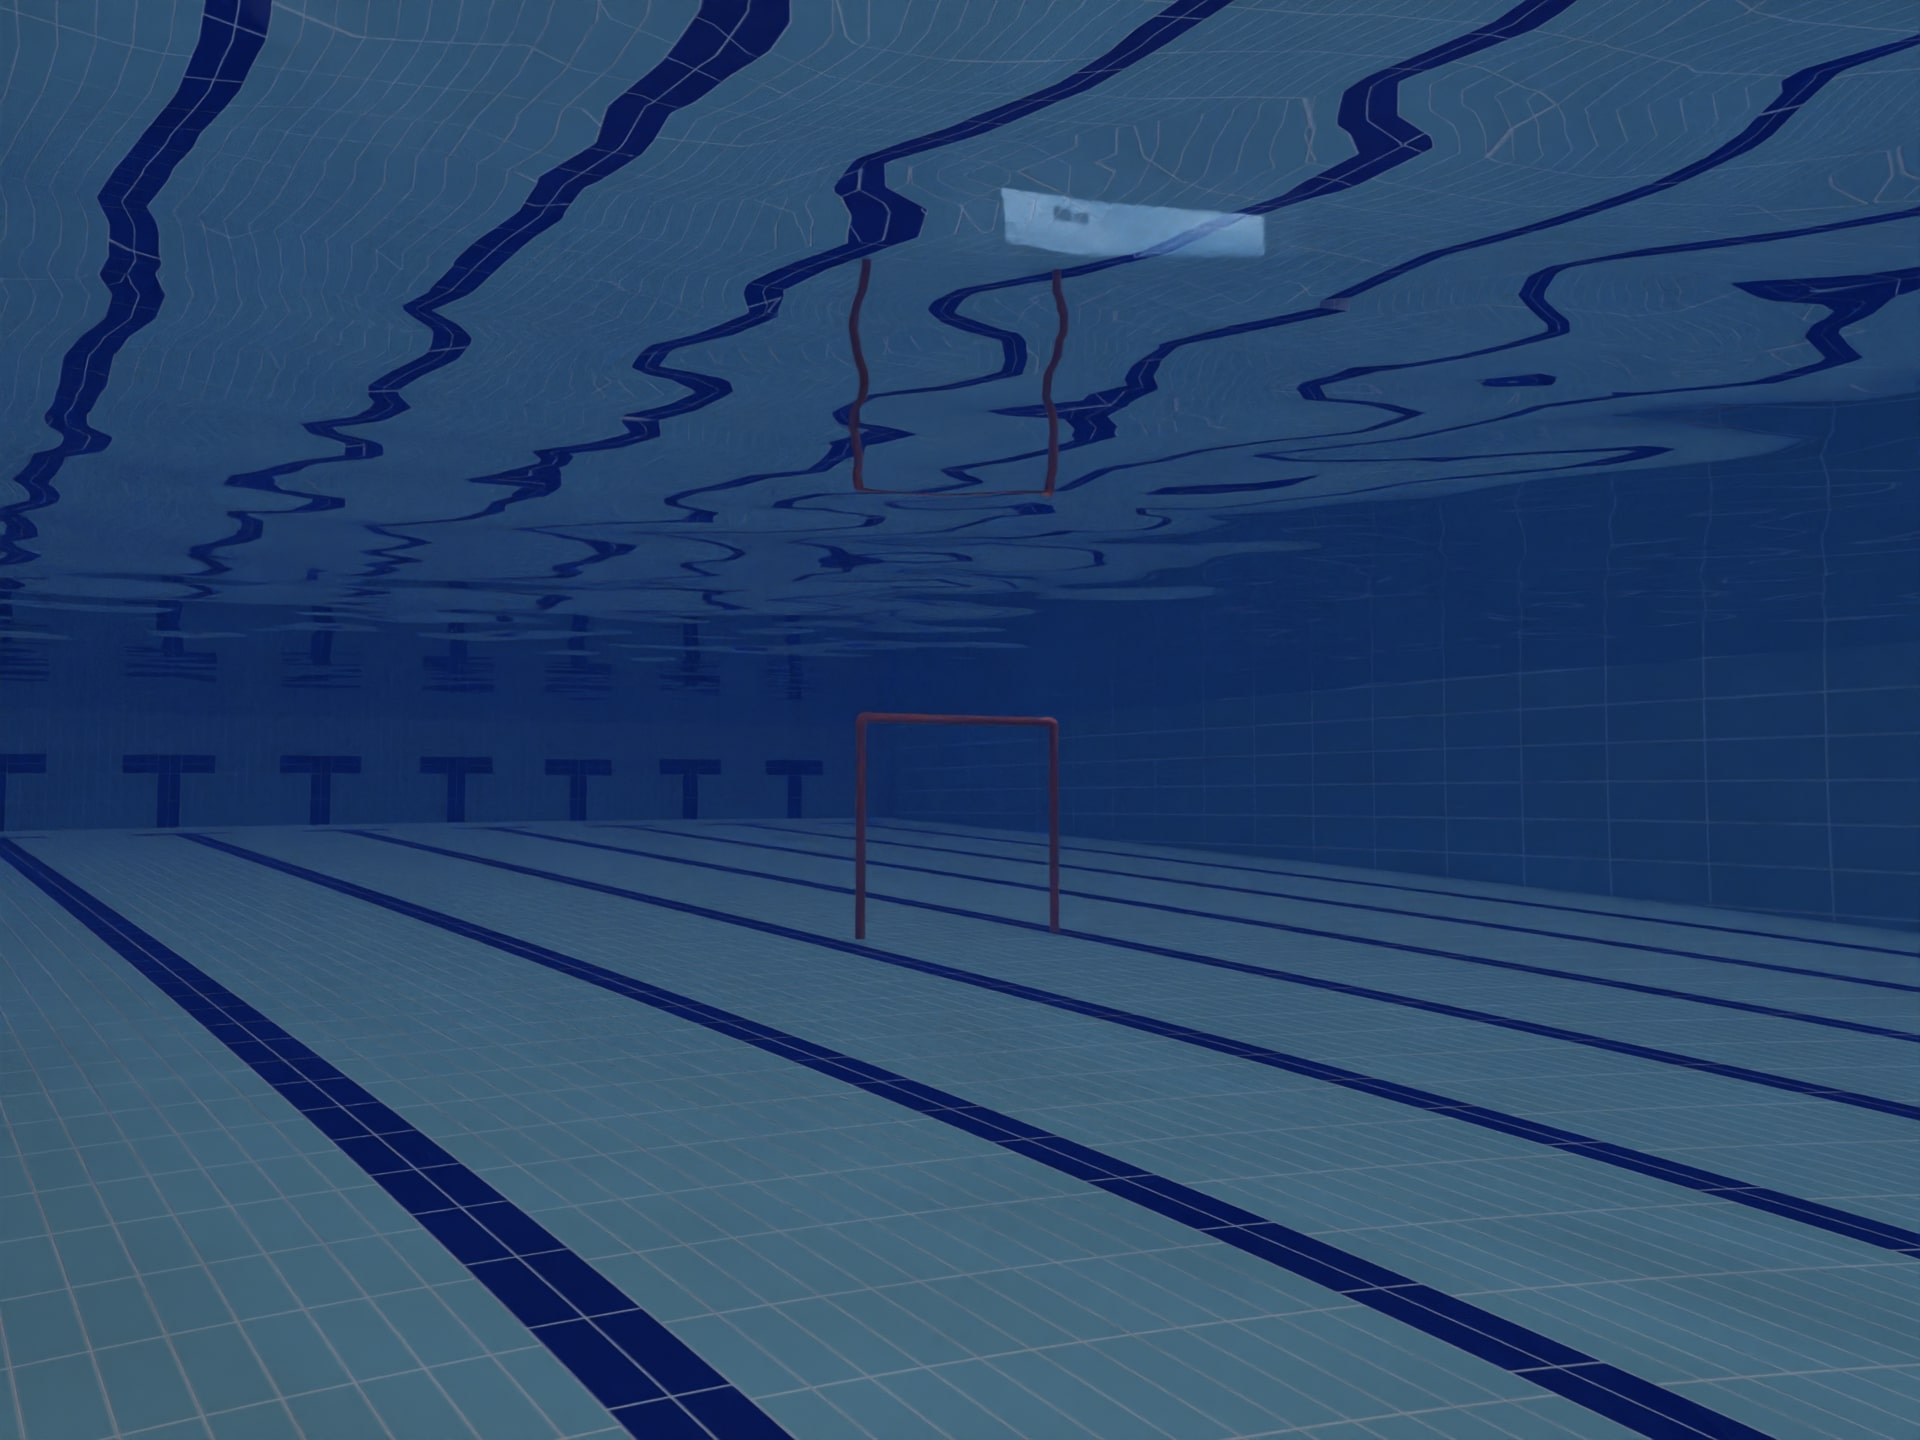gate: (835, 691, 1137, 971)
